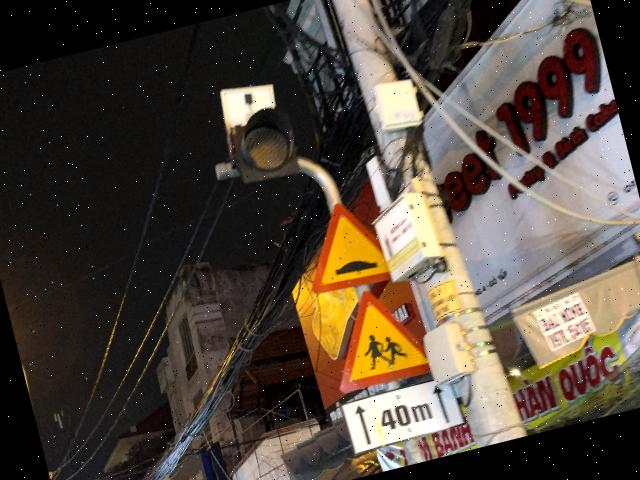duong-co-go-giam-toc: (293, 194, 391, 298)
tre-em-qua-duong: (318, 280, 432, 394)
